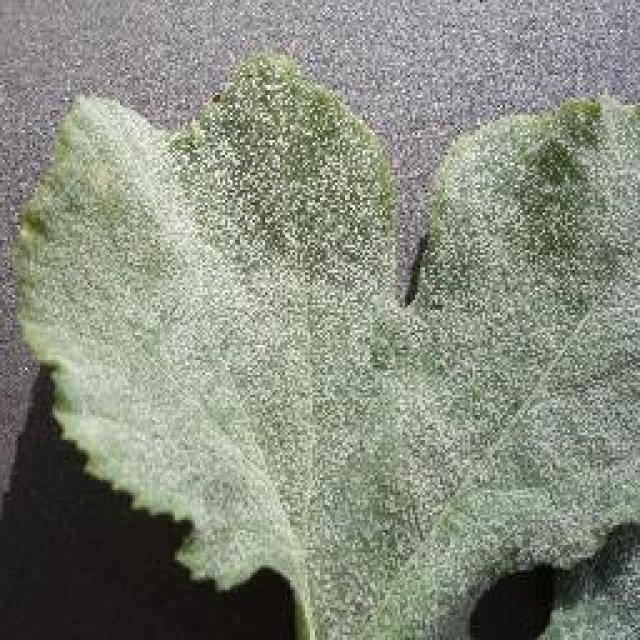Squ_Powdery_mildew: (84, 146, 573, 584)
